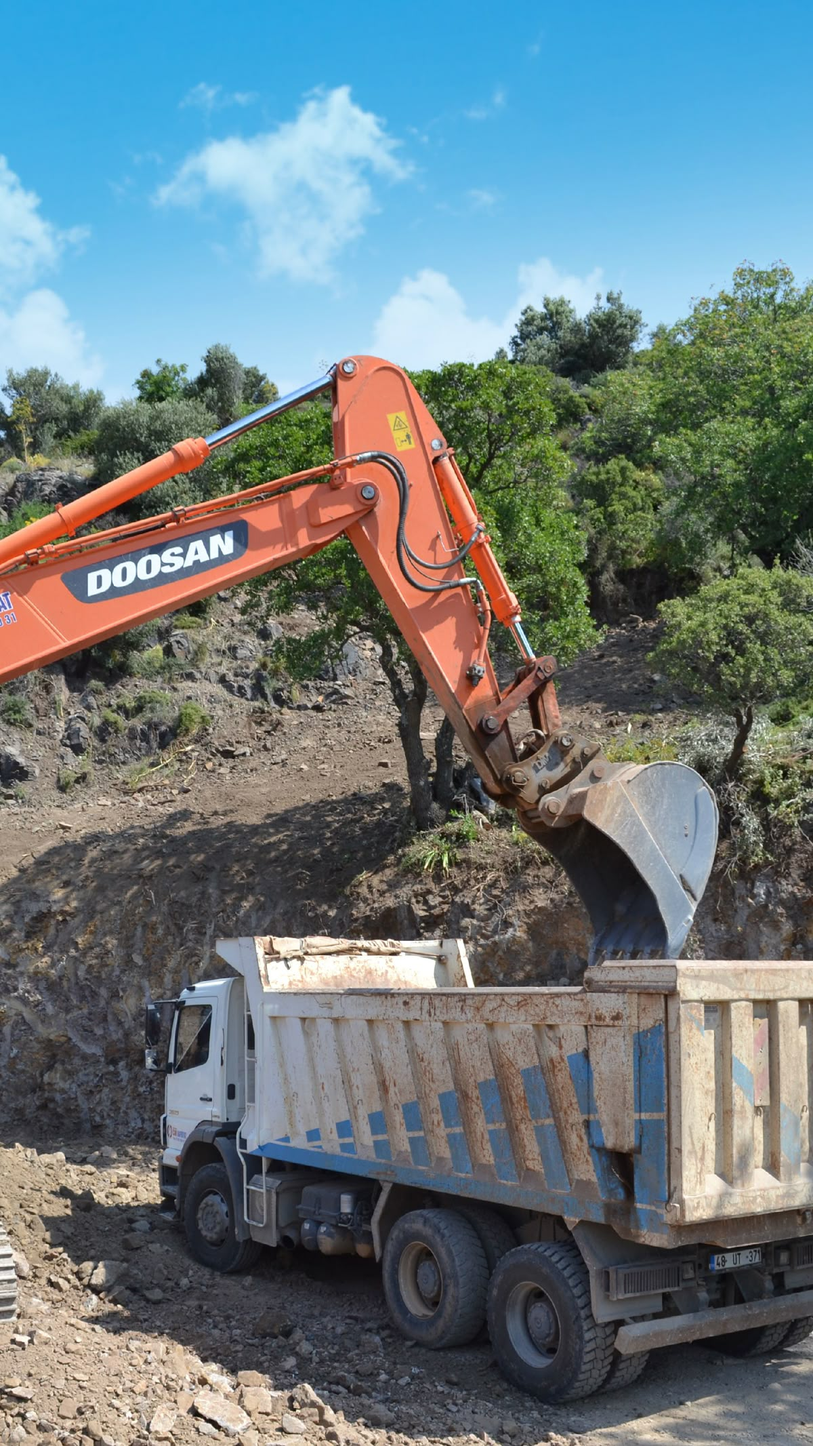excavator: (11, 388, 715, 956)
truck: (122, 817, 799, 1405)
